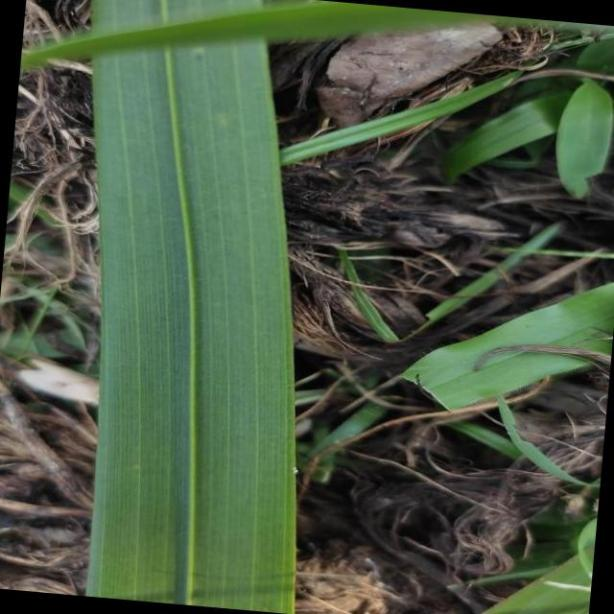Healthy: (80, 0, 293, 614)
